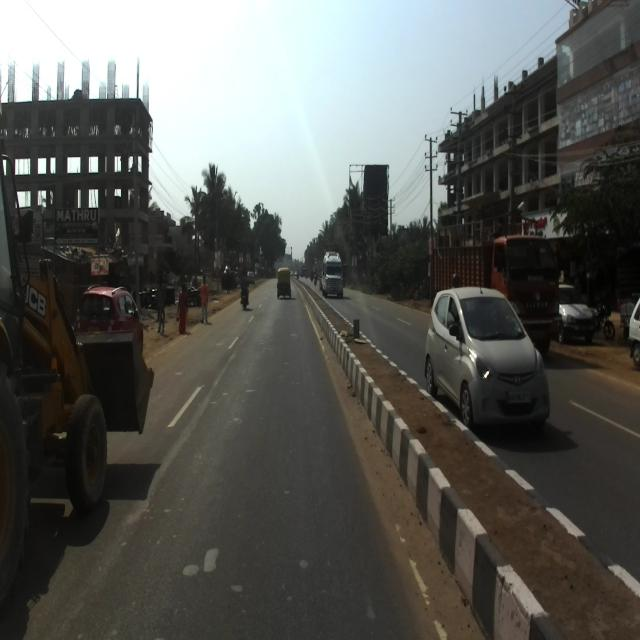car: (423, 282, 550, 436), (74, 282, 143, 355)
truck: (431, 212, 561, 354)
